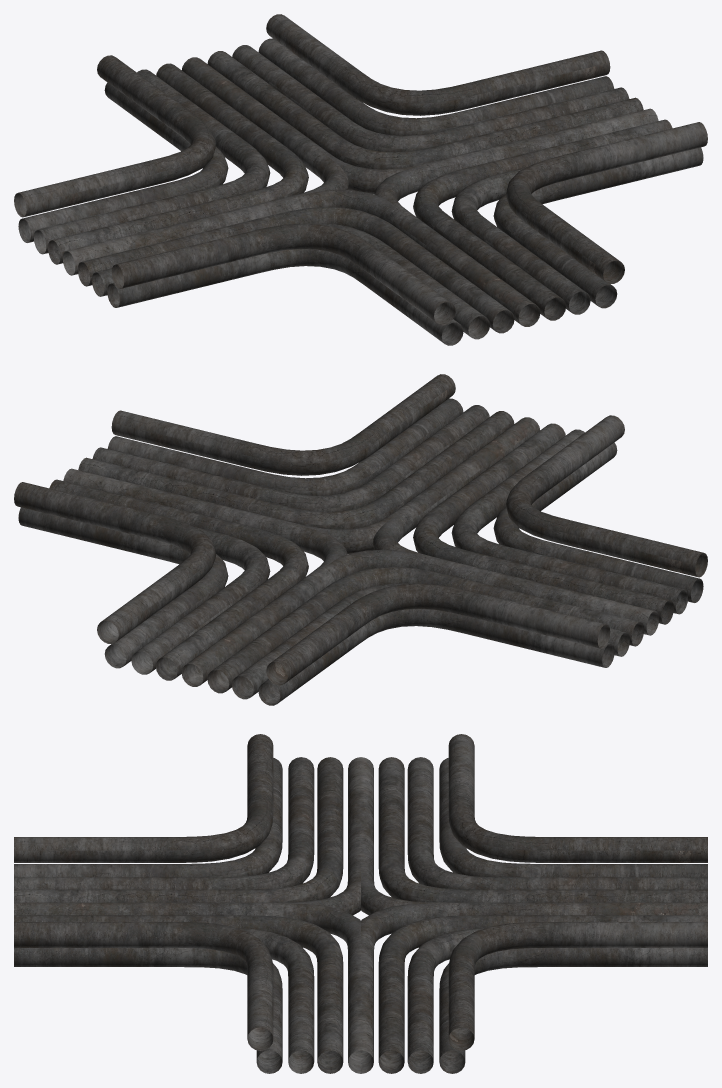
File: Pipes_Junction.glb
The picture shows the model from 3 angles, top to bottom: view 1: azimuth 30°, elevation 25°; view 2: azimuth 150°, elevation 25°; view 3: azimuth 270°, elevation 25°; orthographic projection. The views are drawn at different scales.
Visible parts, largest first — view 1: Pipes_Junction; view 2: Pipes_Junction; view 3: Pipes_Junction.
Boxes of the visible parts, x1=… form: Pipes_Junction: x1=14, y1=14, x2=707, y2=345; Pipes_Junction: x1=14, y1=374, x2=707, y2=705; Pipes_Junction: x1=14, y1=734, x2=707, y2=1073.
Bounding box in the file's own units: 4 × 0.2967 × 4.
1 material, 1 textured.
